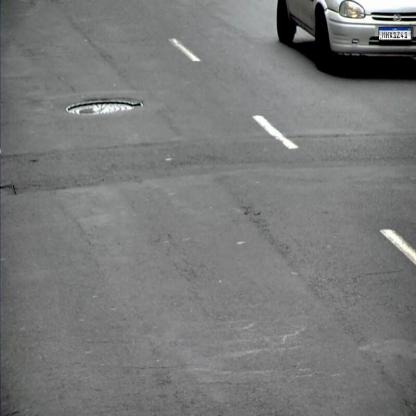PlacaM: (378, 27, 412, 40)
